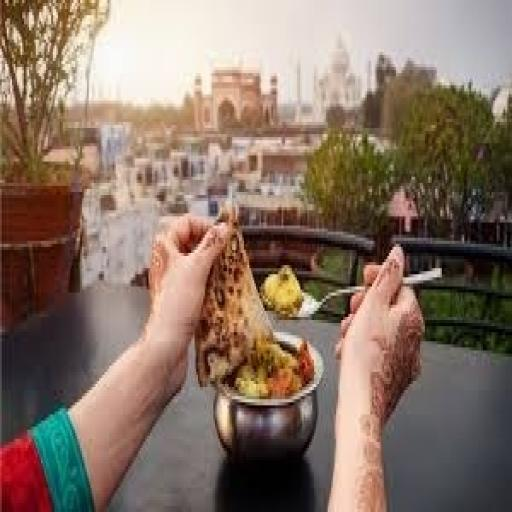eating: (2, 204, 426, 509)
